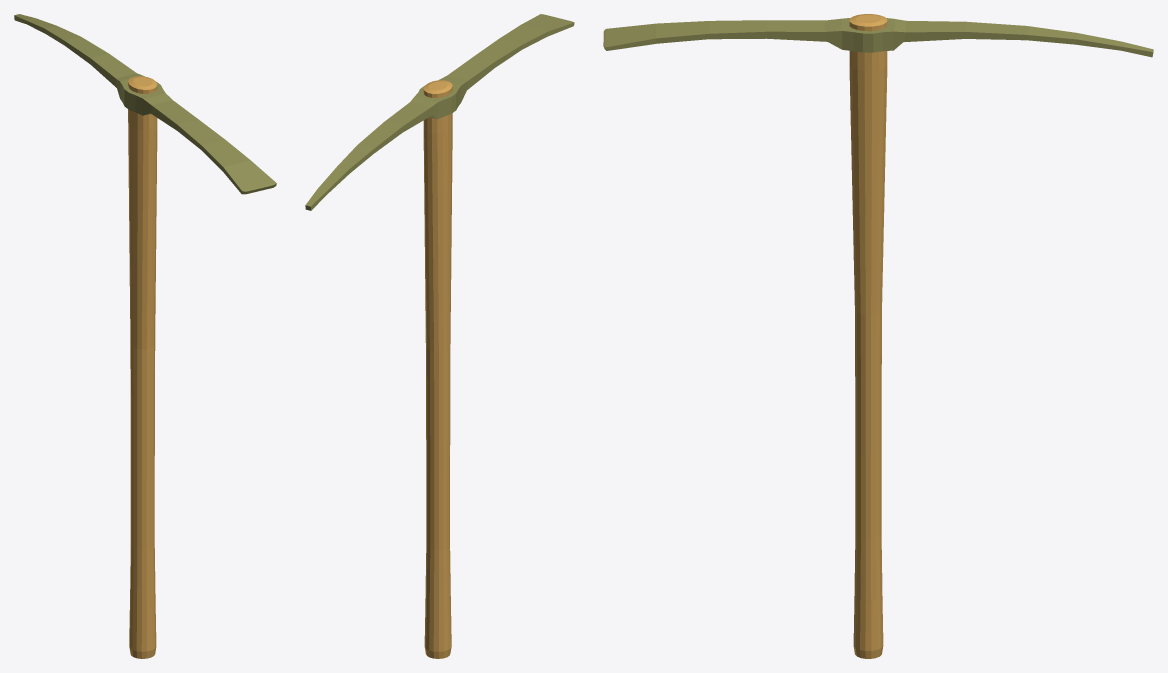
The model's file is superPickaxe.gltf.
3 views of the same model, side by side, from view 1: azimuth 30°, elevation 25°; view 2: azimuth 150°, elevation 25°; view 3: azimuth 270°, elevation 25° (orthographic). The views are drawn at different scales.
Parts seen in each view (by area): view 1: Circle, Circle.001; view 2: Circle, Circle.001; view 3: Circle, Circle.001.
Boxes of the visible parts, x1,y1,x2,y2 form: Circle: [128, 76, 157, 658]; Circle.001: [14, 14, 276, 194]; Circle: [423, 80, 452, 658]; Circle.001: [305, 14, 574, 210]; Circle: [849, 14, 887, 658]; Circle.001: [603, 18, 1153, 57].
Bounding box in the file's own units: 0.2984 × 4.68 × 3.67.
